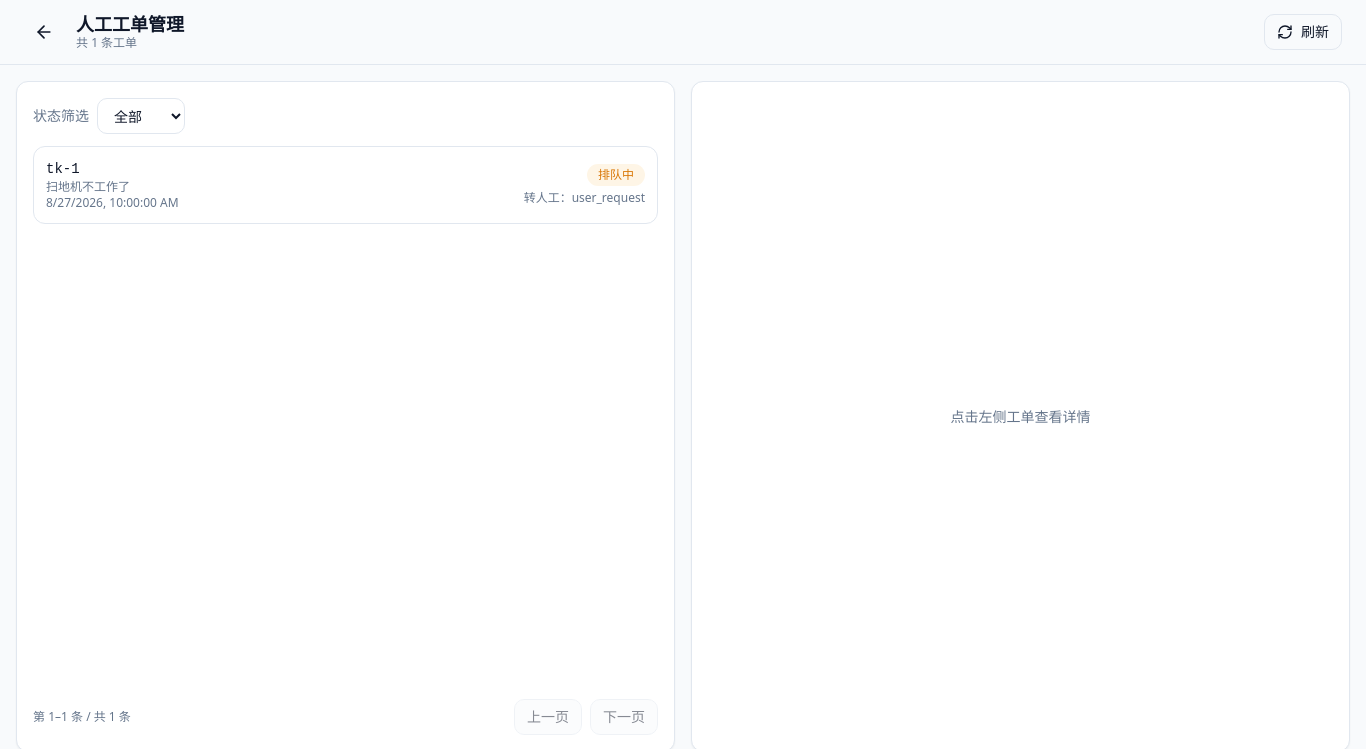
Test: AdminHandoffs 管理端 › 多轮回复记录完整展示在详情中
Click the text "tk-1": [63, 169] box [46, 161, 80, 177]
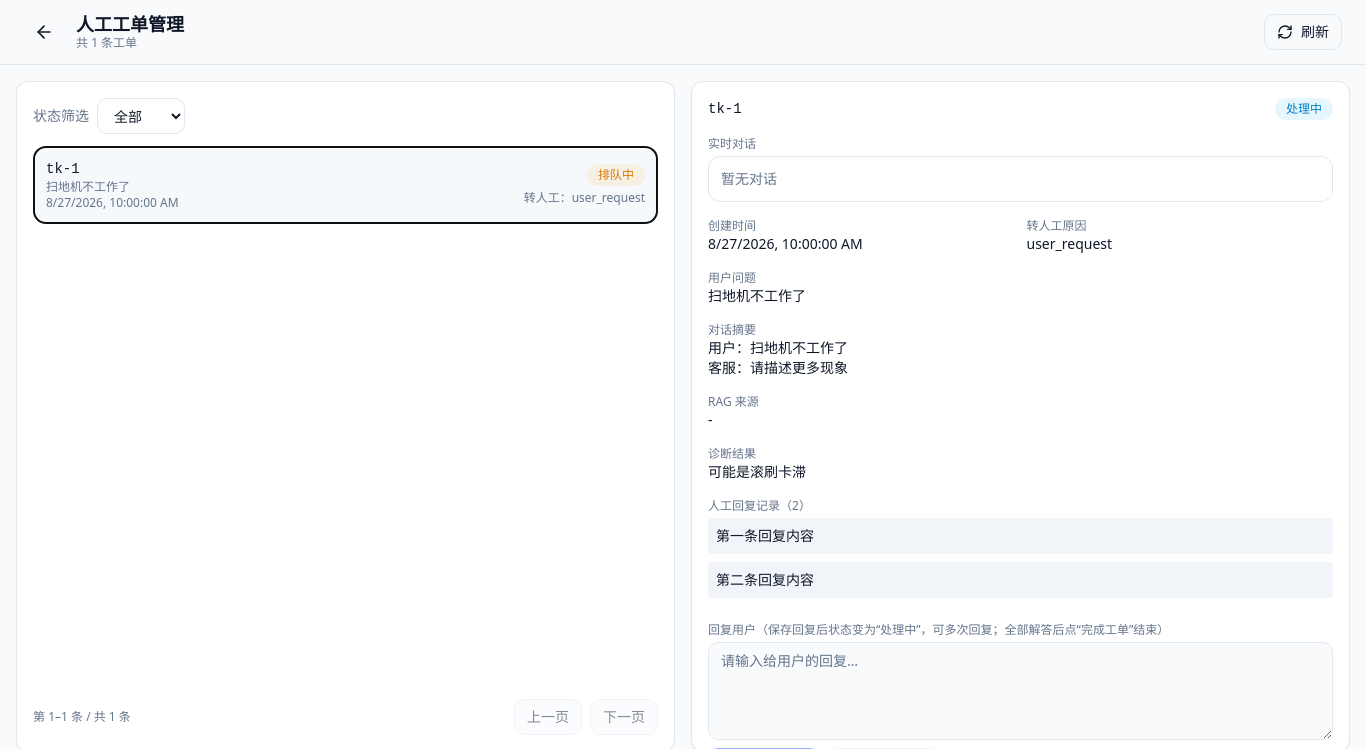
Result: the text "第一条回复内容" is shown at [708, 518, 1333, 554]
Result: the text "第二条回复内容" is shown at [708, 562, 1333, 598]
Result: the text "人工回复记录（2）" is shown at [708, 497, 811, 514]
